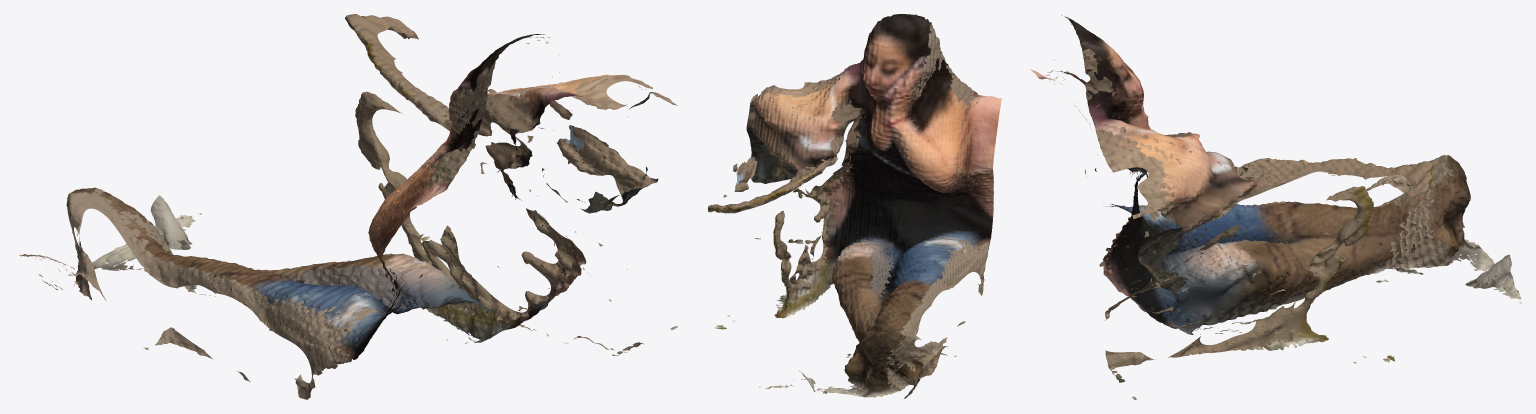
3 views of the same model, side by side, from view 1: azimuth 30°, elevation 25°; view 2: azimuth 150°, elevation 25°; view 3: azimuth 270°, elevation 25° (orthographic). The views are drawn at different scales.
Size of the model in its own units: 1.02 by 0.7578 by 1.12.
1 material, 1 textured.
